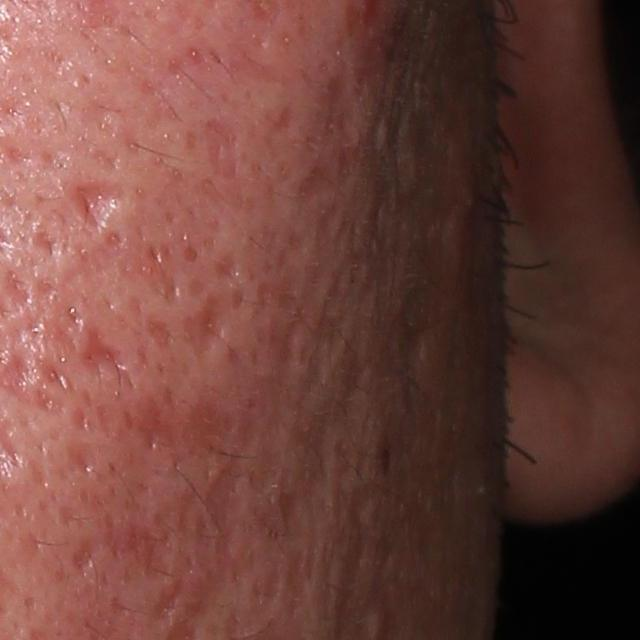atrophic_scar: (182, 447, 251, 619), (110, 514, 175, 587), (180, 286, 225, 364), (60, 181, 123, 233), (77, 319, 130, 378), (201, 114, 244, 183), (138, 396, 186, 456), (66, 534, 104, 580), (65, 438, 104, 481)
